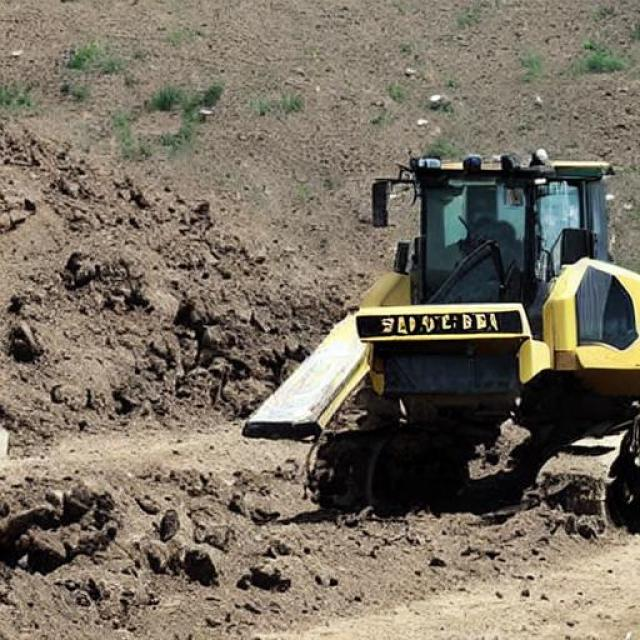machinery: (101, 163, 622, 458)
